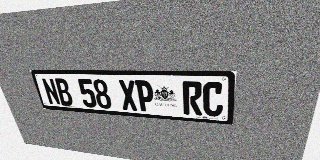5: (77, 79, 98, 108)
8: (92, 79, 112, 109)
B: (53, 78, 74, 106)
C: (203, 82, 224, 117)
N: (41, 78, 61, 105)
P: (135, 80, 155, 112)
R: (182, 81, 202, 116)
X: (118, 80, 138, 111)
